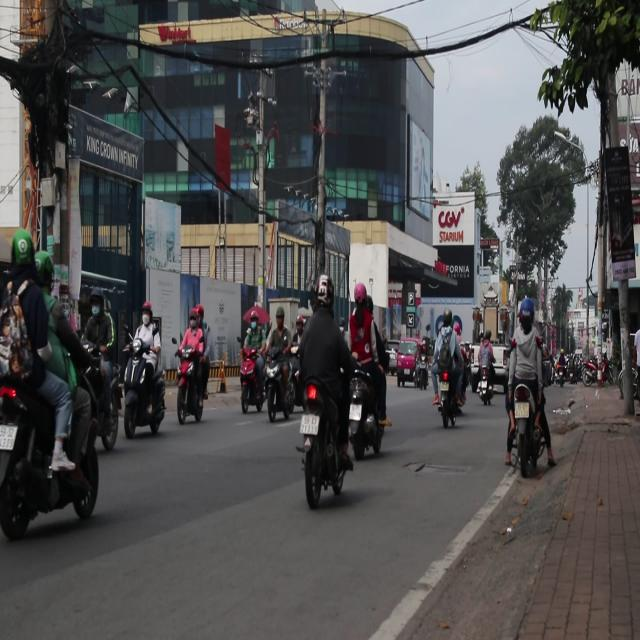motorbike: (1, 338, 102, 542), (298, 369, 352, 508), (82, 337, 149, 449), (120, 335, 169, 438), (348, 366, 388, 460), (511, 378, 547, 473), (173, 342, 207, 427), (262, 352, 300, 422), (240, 340, 268, 414), (436, 370, 458, 429), (475, 362, 495, 408), (414, 352, 429, 392)
truck: (395, 341, 419, 387)
